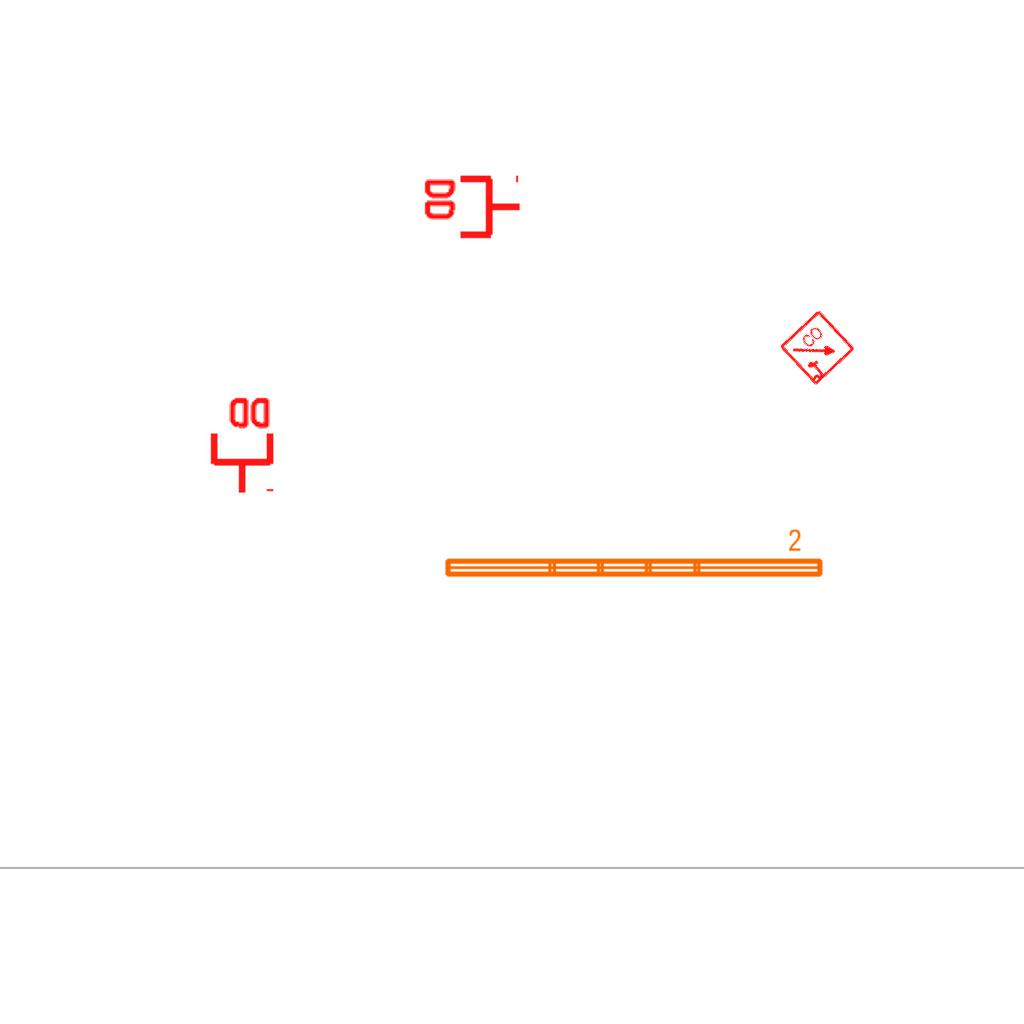Ambulanz_Pendelleuchte_LED: (440, 527, 827, 583)
Datenanschluss_zweifach: (420, 174, 523, 243), (206, 393, 275, 496)
ROA_Rauchmelder_optisch_mit_Signalgeber_(Sockelsirene): (778, 308, 858, 388)
